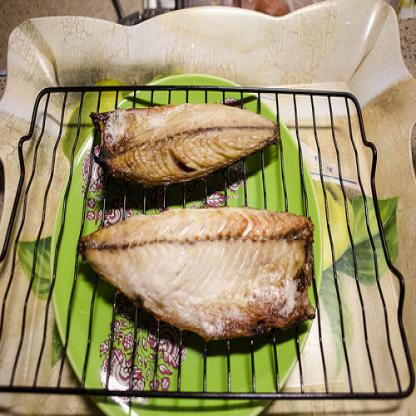Peixe: (75, 176, 358, 364), (94, 85, 324, 206)
